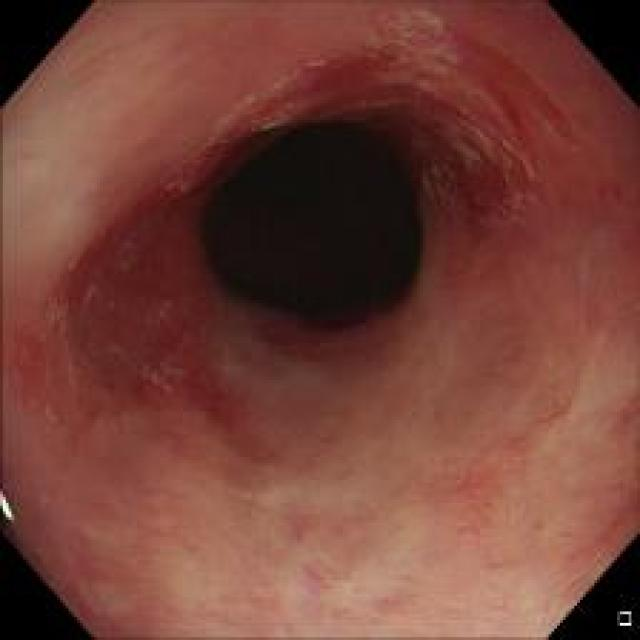contrast: (198, 115, 425, 332)
specularity: (1, 486, 15, 521)
